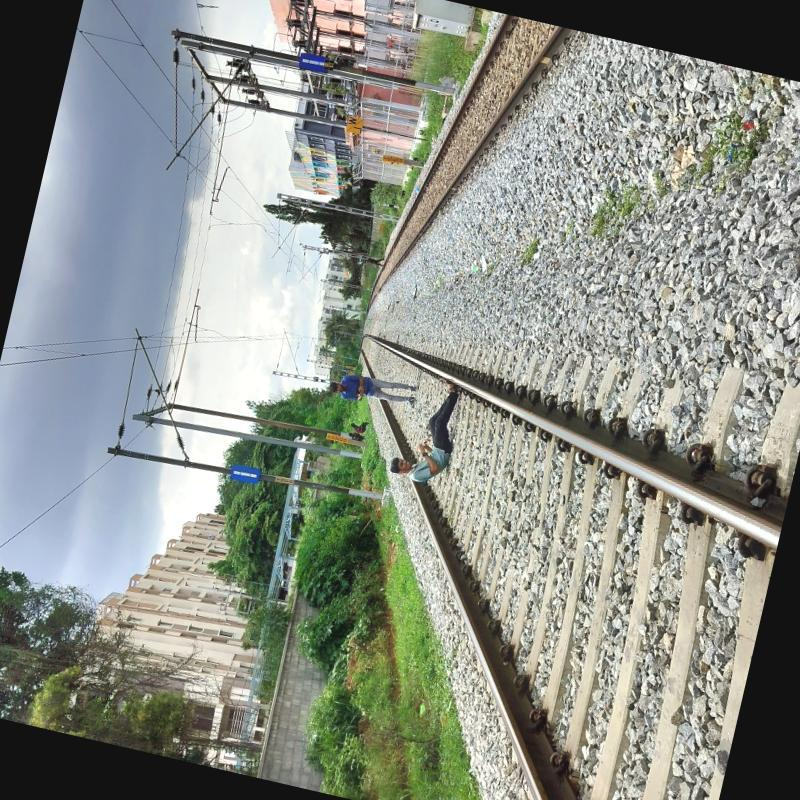sleeping: (384, 368, 468, 490)
